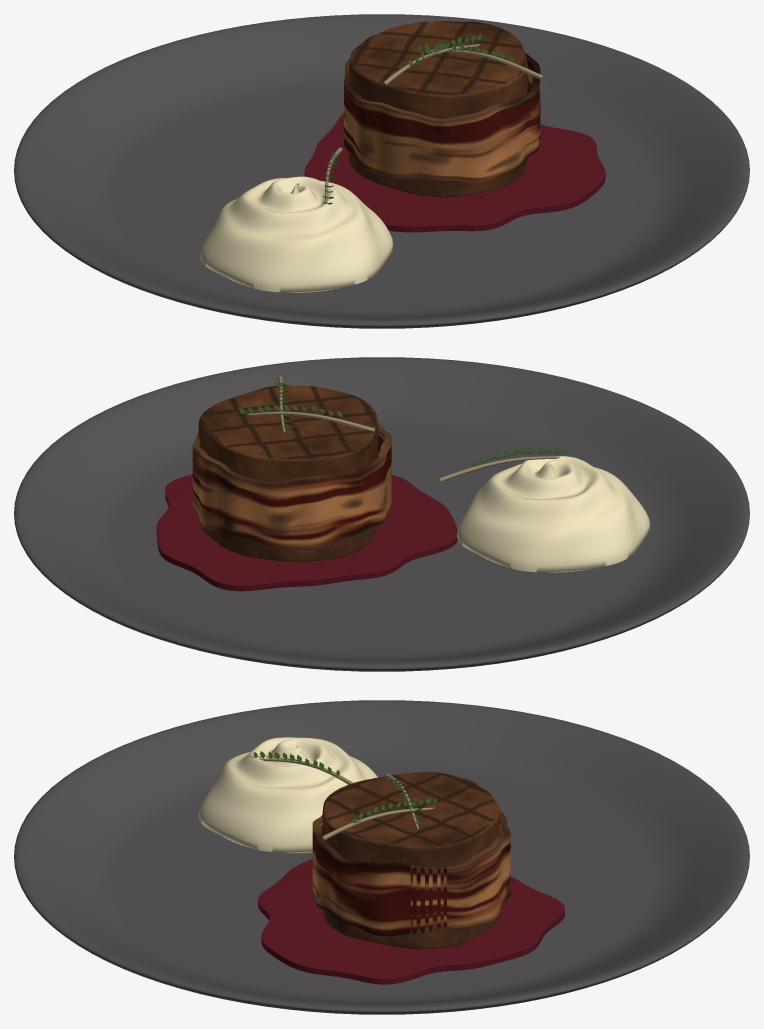
The model's file is filet-mignon.glb.
3 views of the same model, one above another, from view 1: azimuth 30°, elevation 25°; view 2: azimuth 150°, elevation 25°; view 3: azimuth 270°, elevation 25° (orthographic).
Visible parts, largest first — view 1: base, mashed, filet, bacon-wrap, wine-sauce, thyme; view 2: base, mashed, filet, bacon-wrap, wine-sauce, thyme; view 3: base, filet, wine-sauce, bacon-wrap, mashed, thyme.
Boxes of the visible parts, x1,y1,x2,y2 form: base: (14,14,749,328); mashed: (200,176,393,292); filet: (348,21,528,197); bacon-wrap: (344,52,540,182); wine-sauce: (304,113,605,232); thyme: (323,34,543,204); base: (14,357,749,671); mashed: (457,456,649,572); filet: (198,385,378,561); bacon-wrap: (192,423,391,549); wine-sauce: (156,474,457,591); thyme: (236,376,568,482); base: (14,700,749,1014); filet: (322,772,500,949); wine-sauce: (258,859,564,984); bacon-wrap: (312,811,510,936); mashed: (199,737,377,853); thyme: (249,751,441,840).
Size of the model in its own units: 0.2979 by 0.0646 by 0.2979.
Materials: 11 (6 with a texture image).
